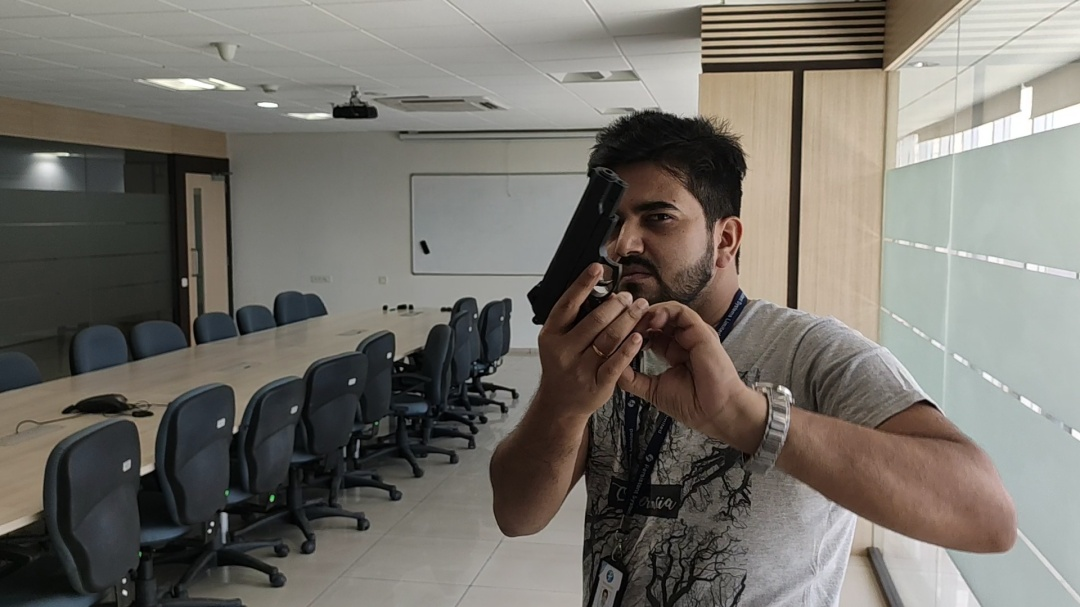gun: (527, 166, 628, 325)
